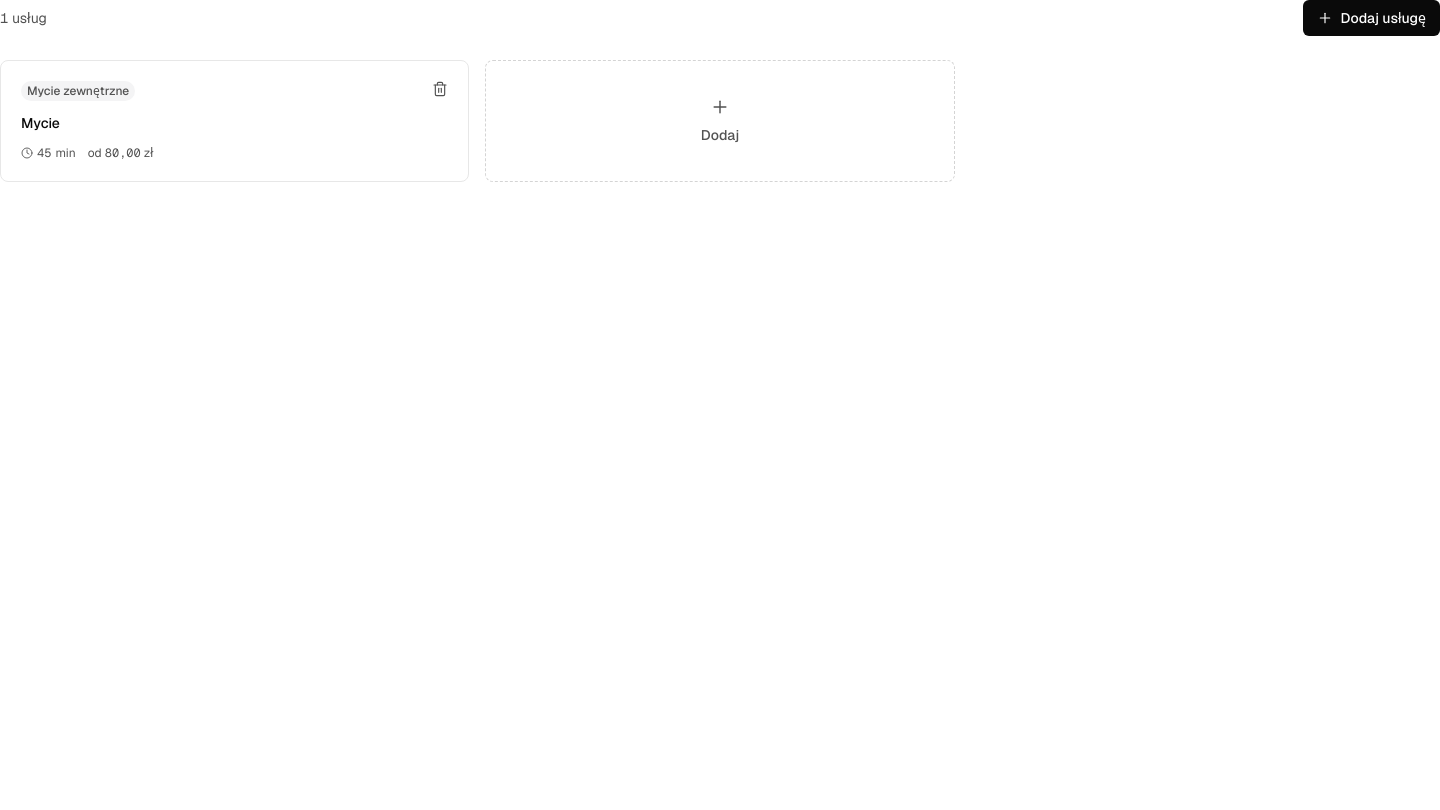
Test: ServicesSettings › asks before deleting a service
This screenshot has width=1440, height=810.
Later steps or results of the test are not shown.
Click the button named "Usuń Mycie": (440, 89) left=424, top=73, right=456, bottom=105
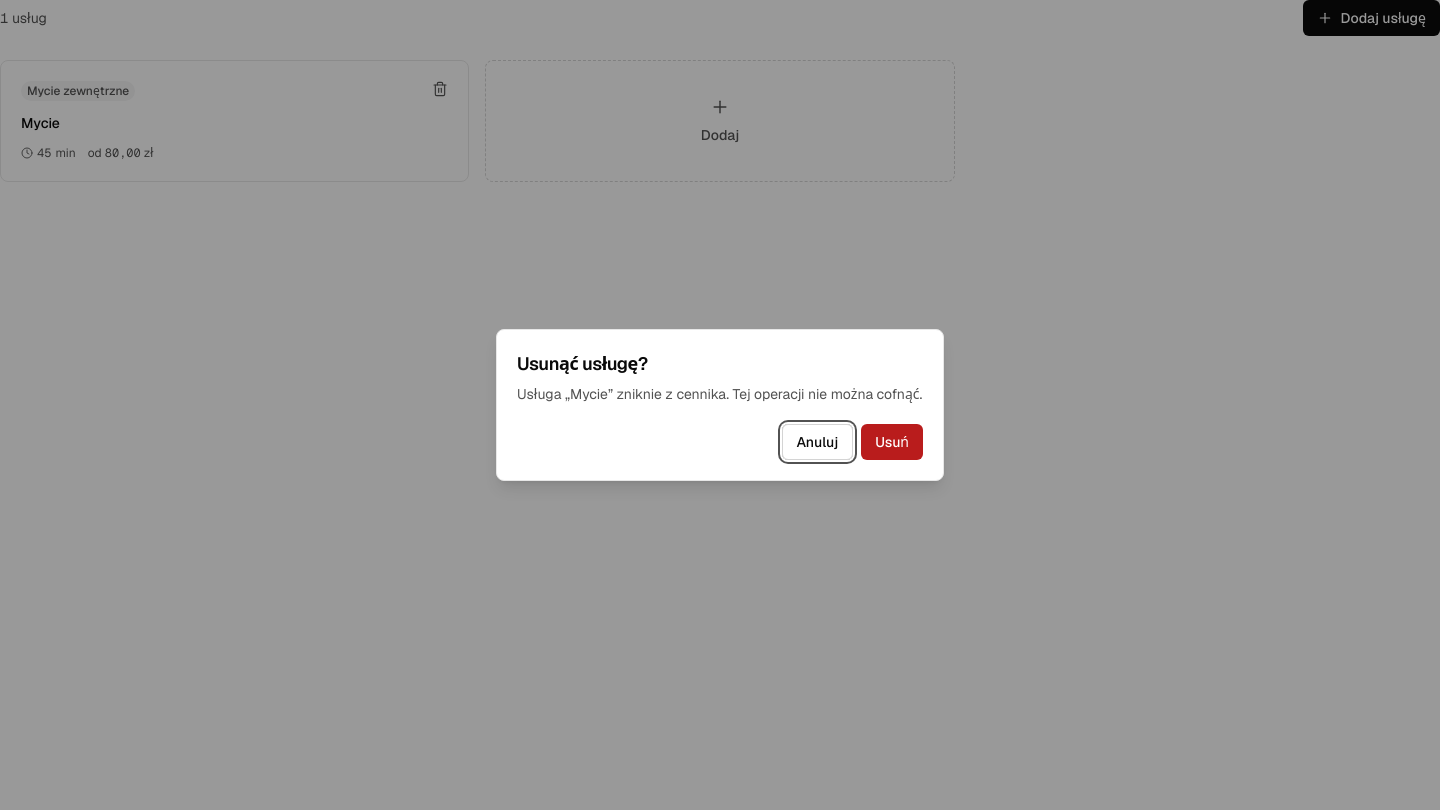
Expected: the dialog "Usunąć usługę?" is shown, left=496, top=329, right=944, bottom=481
